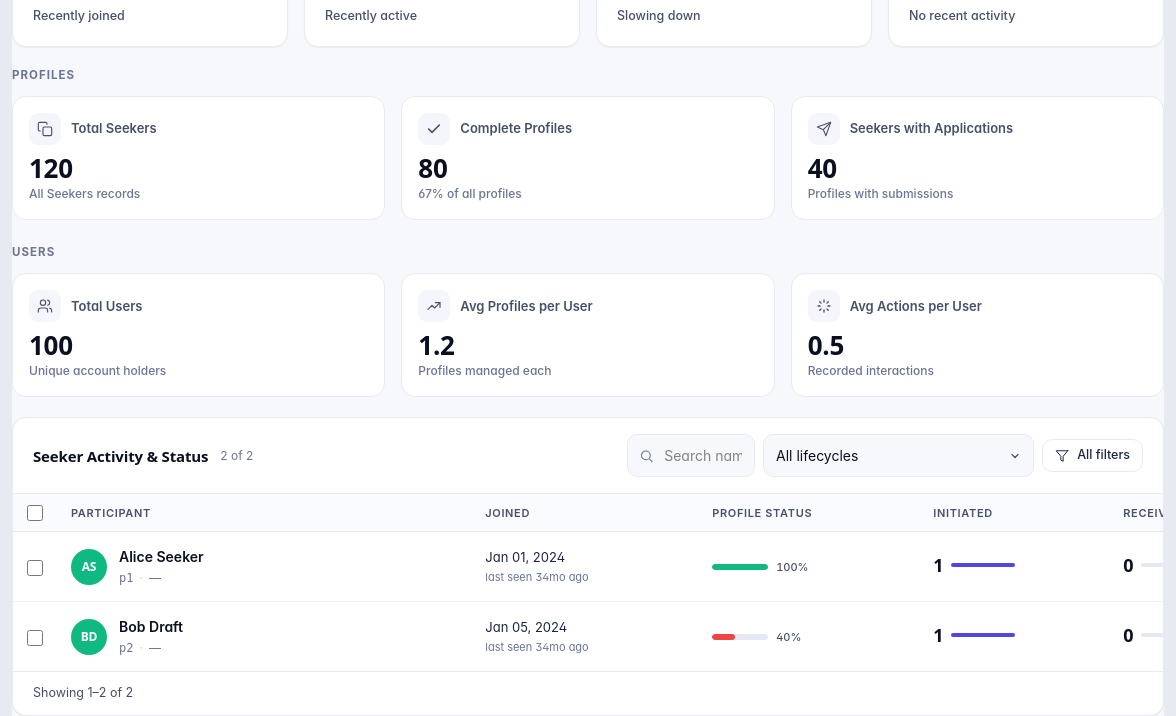
Scenario: <DashboardPageRoot /> › lifecycle filter › narrows table rows by lifecycle while the stat cards keep reflecting the full rollup
(page scrolled)
Expected: the text "Alice Seeker" is shown, [119, 546, 204, 567]
Expected: the text "Bob Draft" is shown, [119, 616, 183, 637]
Select "Draft" in the dropdown named "Lifecycle". click: [899, 456]
box: [763, 434, 1034, 477]
(page scrolled)
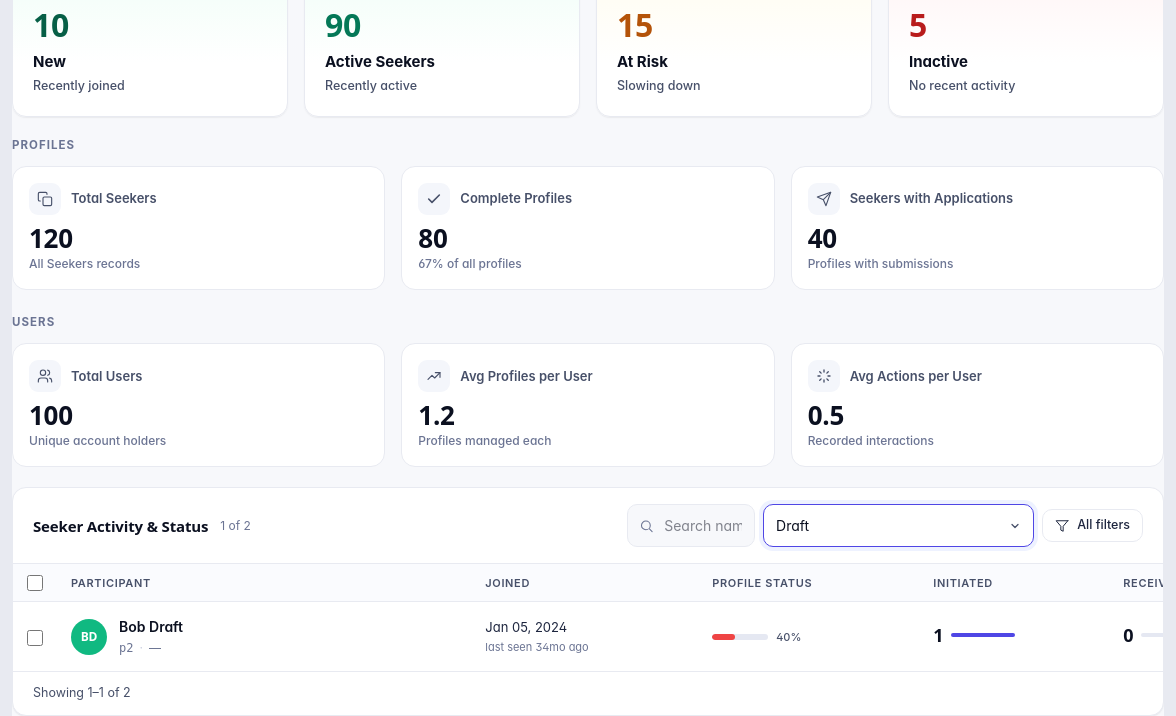
Expected: the text "Bob Draft" is shown, [119, 616, 183, 637]
Expected: the text "Alice Seeker" is gone
Select "Live" in the dropdown named "Lifecycle". click: [899, 526]
box: [763, 504, 1034, 547]
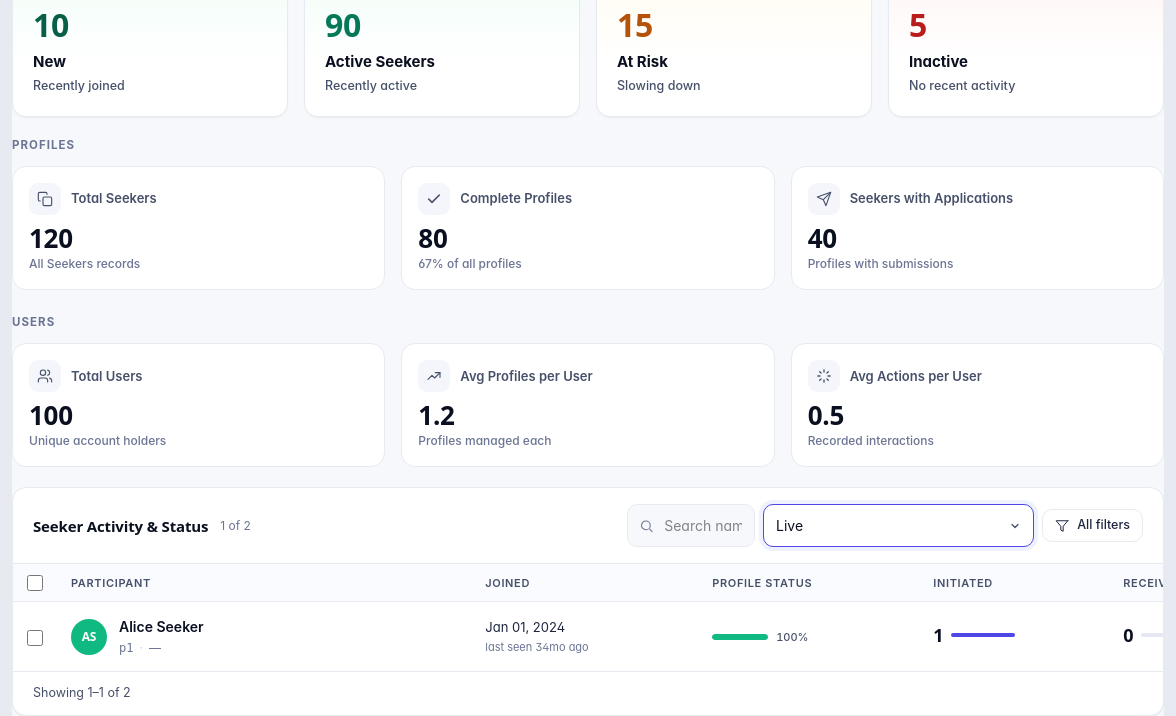
Expected: the text "Alice Seeker" is shown, [119, 616, 204, 637]
Expected: the text "Bob Draft" is gone
Select "All lifecycles" in the dropdown named "Lifecycle". click: [899, 526]
box: [763, 504, 1034, 547]
(page scrolled)
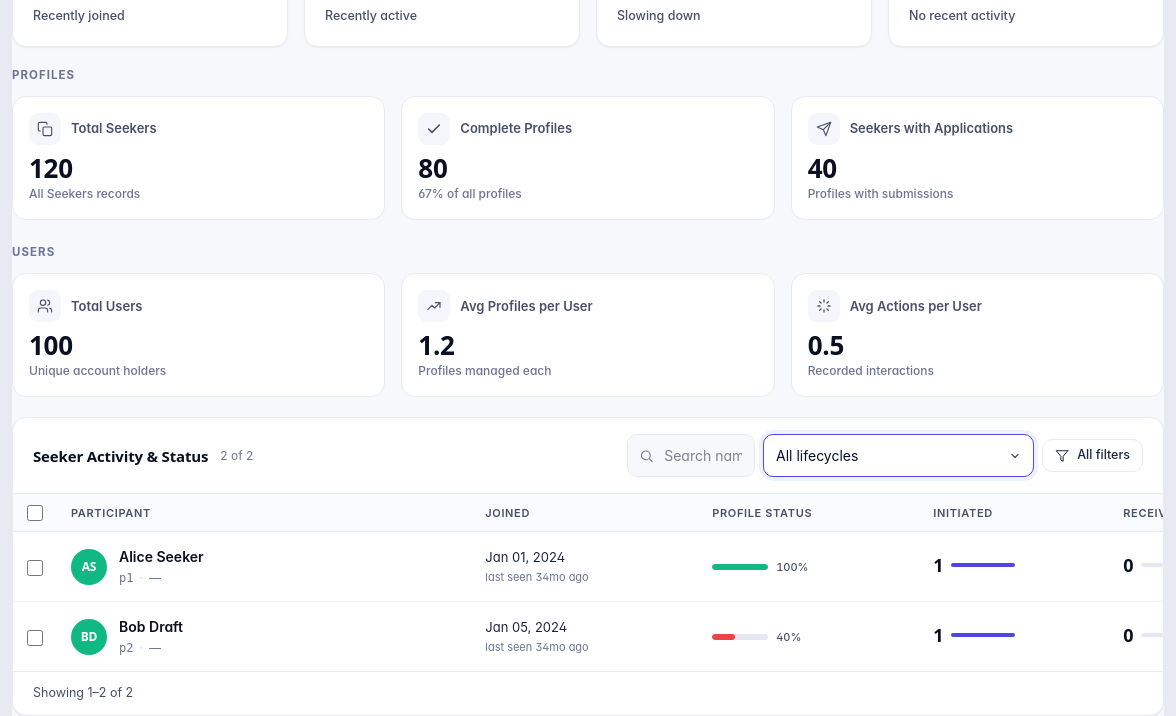
Expected: the text "Alice Seeker" is shown, [119, 546, 204, 567]
Expected: the text "Bob Draft" is shown, [119, 616, 183, 637]
